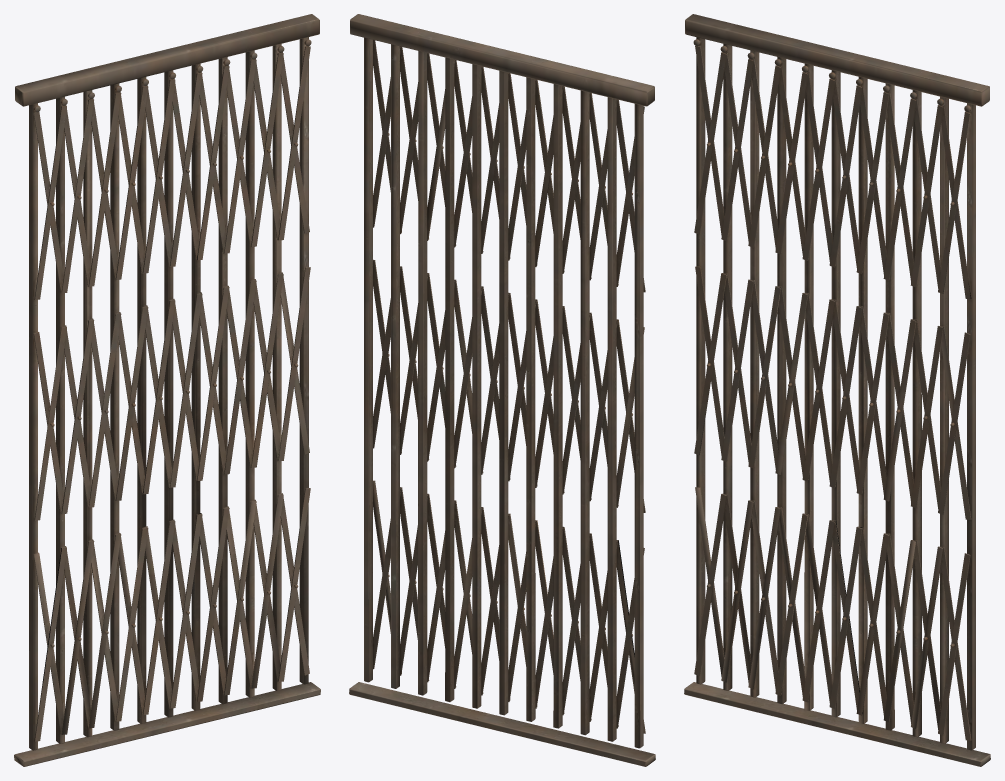
File: folding_gate.glb
3 renders of one model, left to right at view 1: azimuth 30°, elevation 25°; view 2: azimuth 150°, elevation 25°; view 3: azimuth 330°, elevation 25°, orthographic.
Parts seen in each view (by area): view 1: folding_gate; view 2: folding_gate; view 3: folding_gate.
Part boxes in pixels (x1=…): folding_gate: x1=14, y1=14, x2=320, y2=766; folding_gate: x1=349, y1=14, x2=655, y2=766; folding_gate: x1=684, y1=14, x2=990, y2=766.
Bounding box in the file's own units: 1.2 × 2.6 × 0.0892.
Materials: 1 (1 with a texture image).
